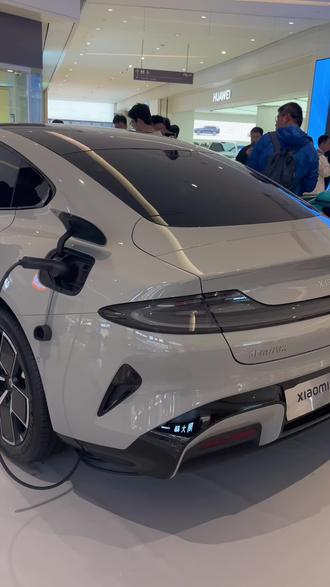su7: (0, 124, 329, 485)
